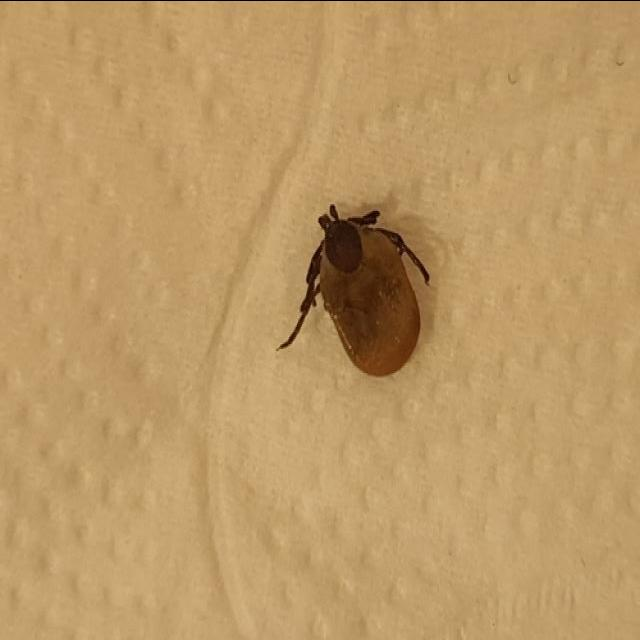Ixodes Ricinus-F-Fed: (280, 203, 433, 379)
